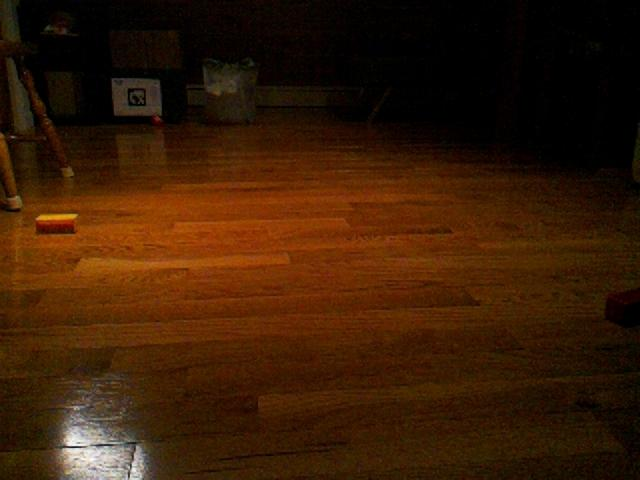red: (604, 285, 640, 329)
yellow: (34, 213, 79, 235)
